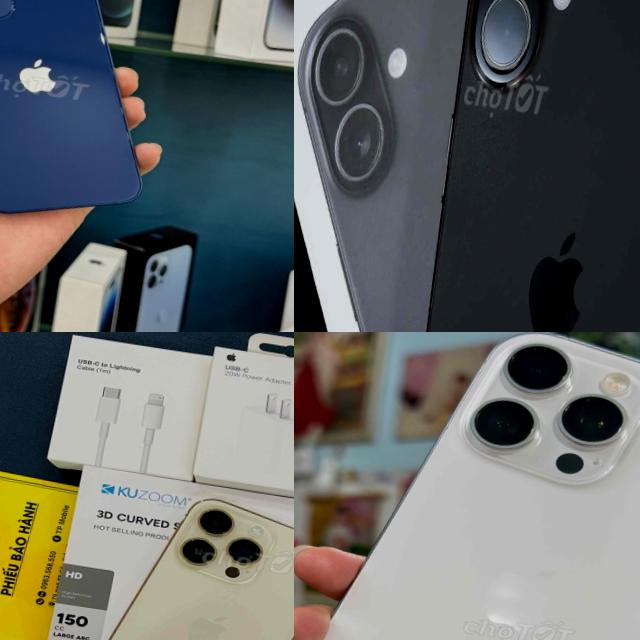gen_12_13: (0, 0, 176, 234)
gen_14: (55, 471, 294, 640)
gen_16: (316, 334, 640, 640), (397, 0, 640, 332)
